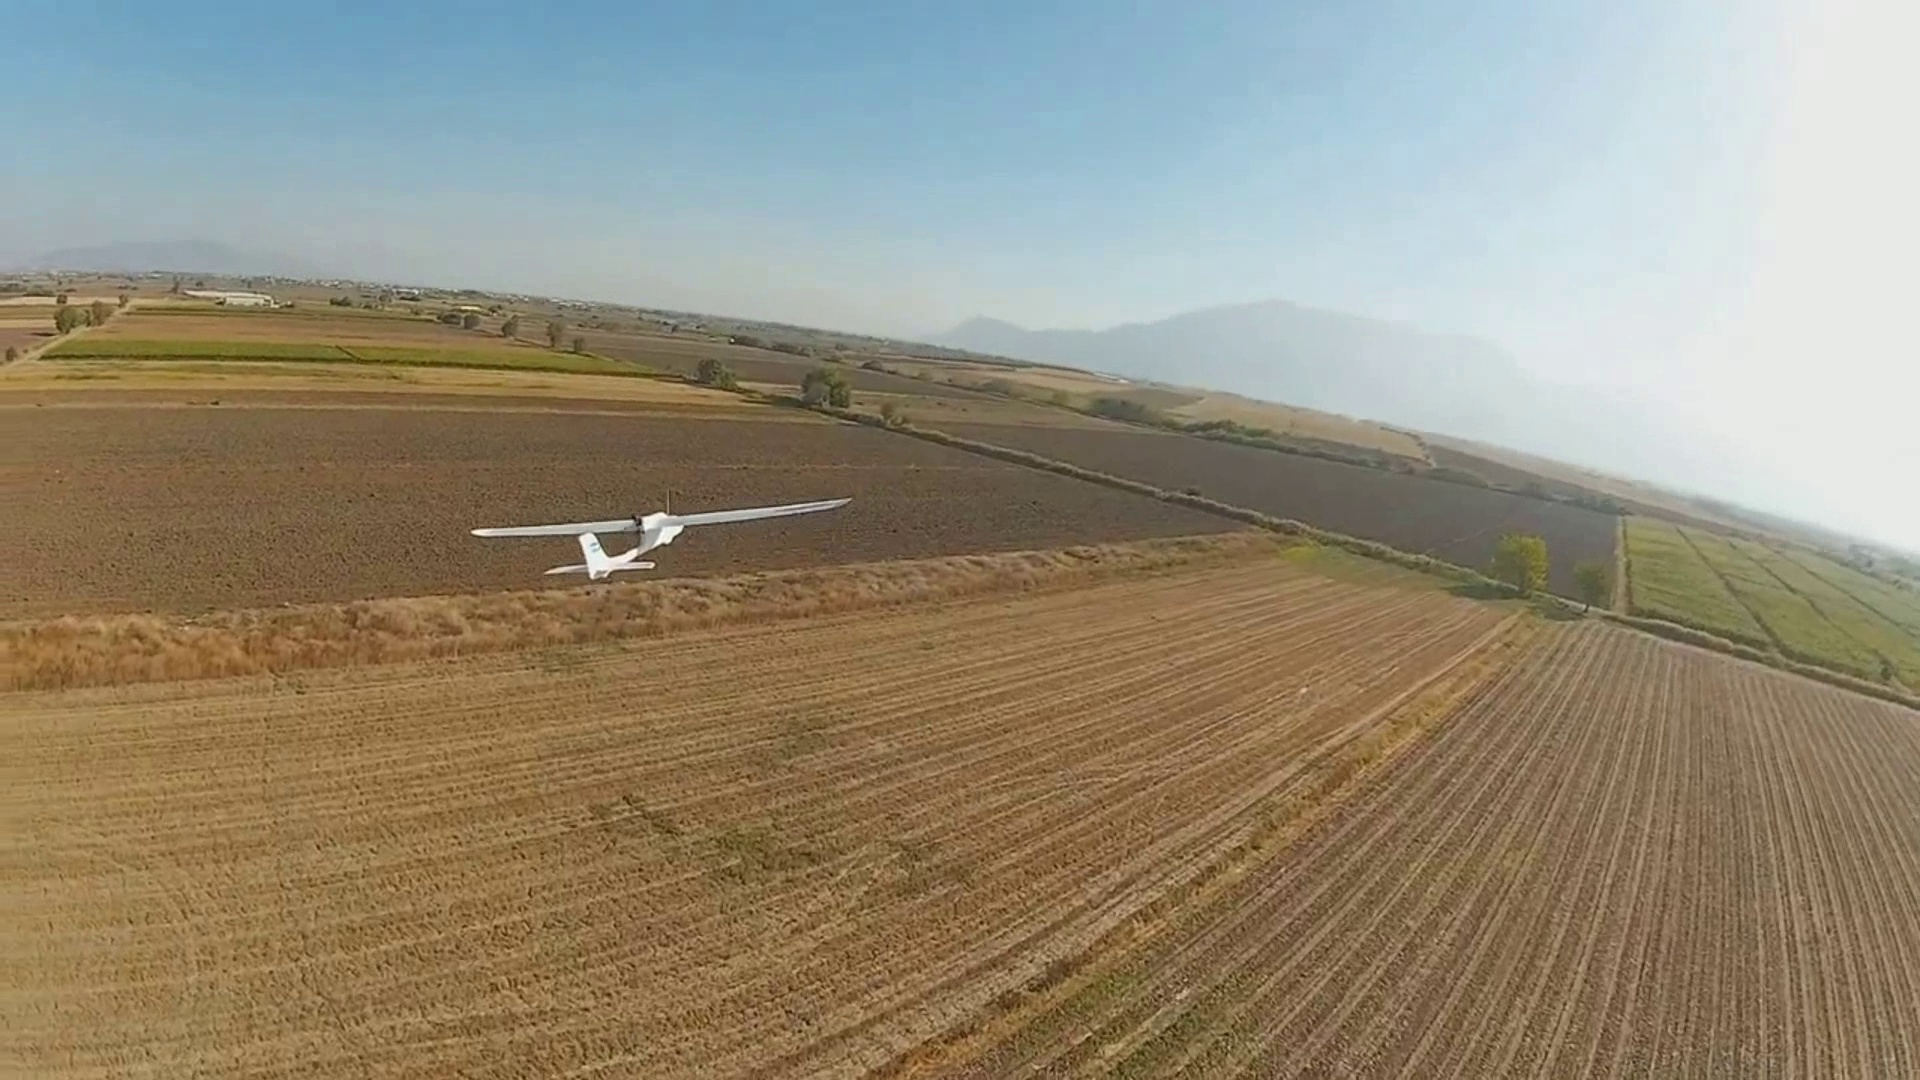airplane: (760, 378, 1917, 675), (465, 495, 852, 585)
